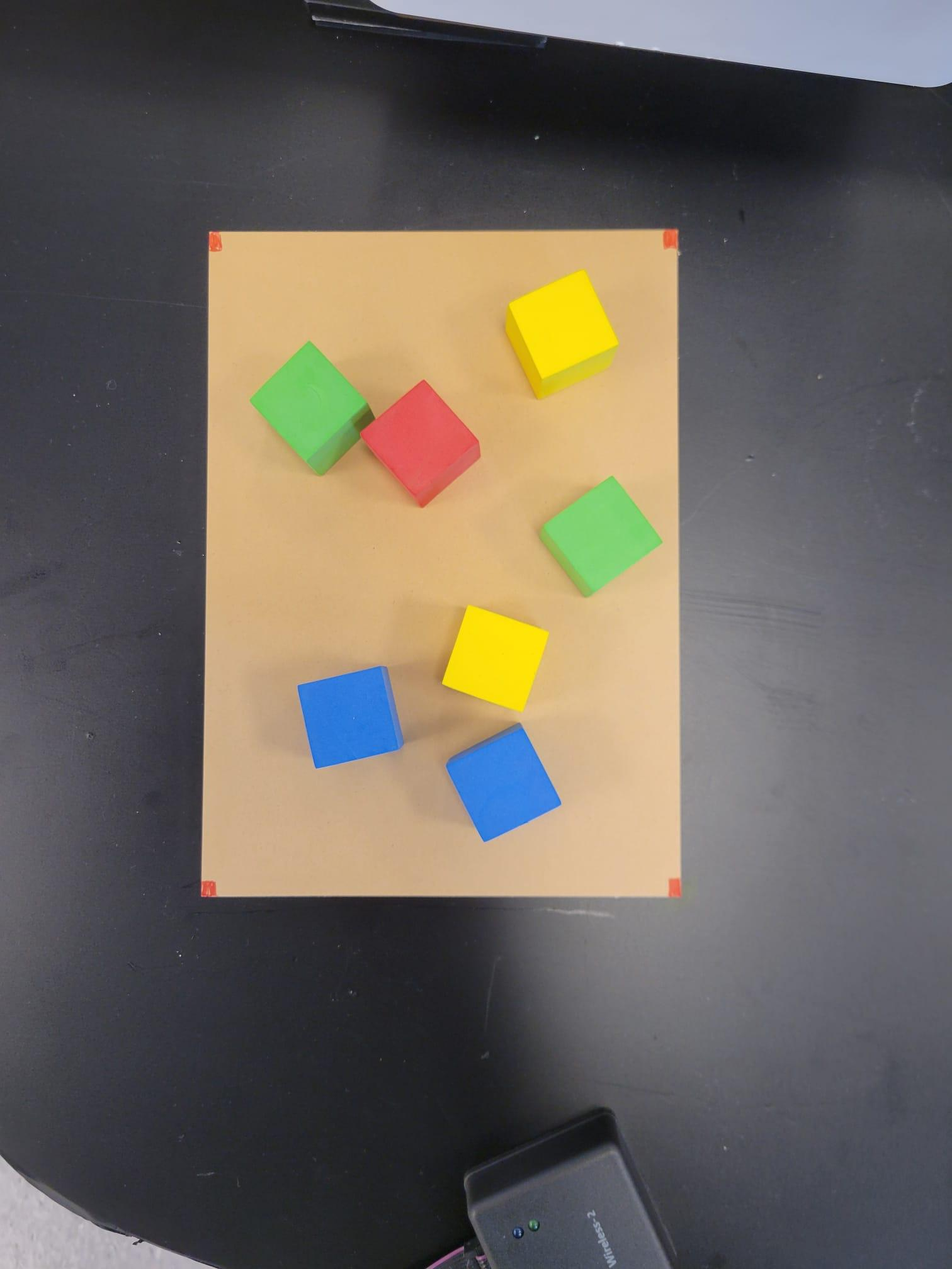cube: (252, 341, 373, 472), (505, 269, 620, 398), (362, 386, 482, 507), (543, 475, 661, 595), (445, 724, 562, 840), (299, 661, 408, 771), (442, 604, 549, 716)
